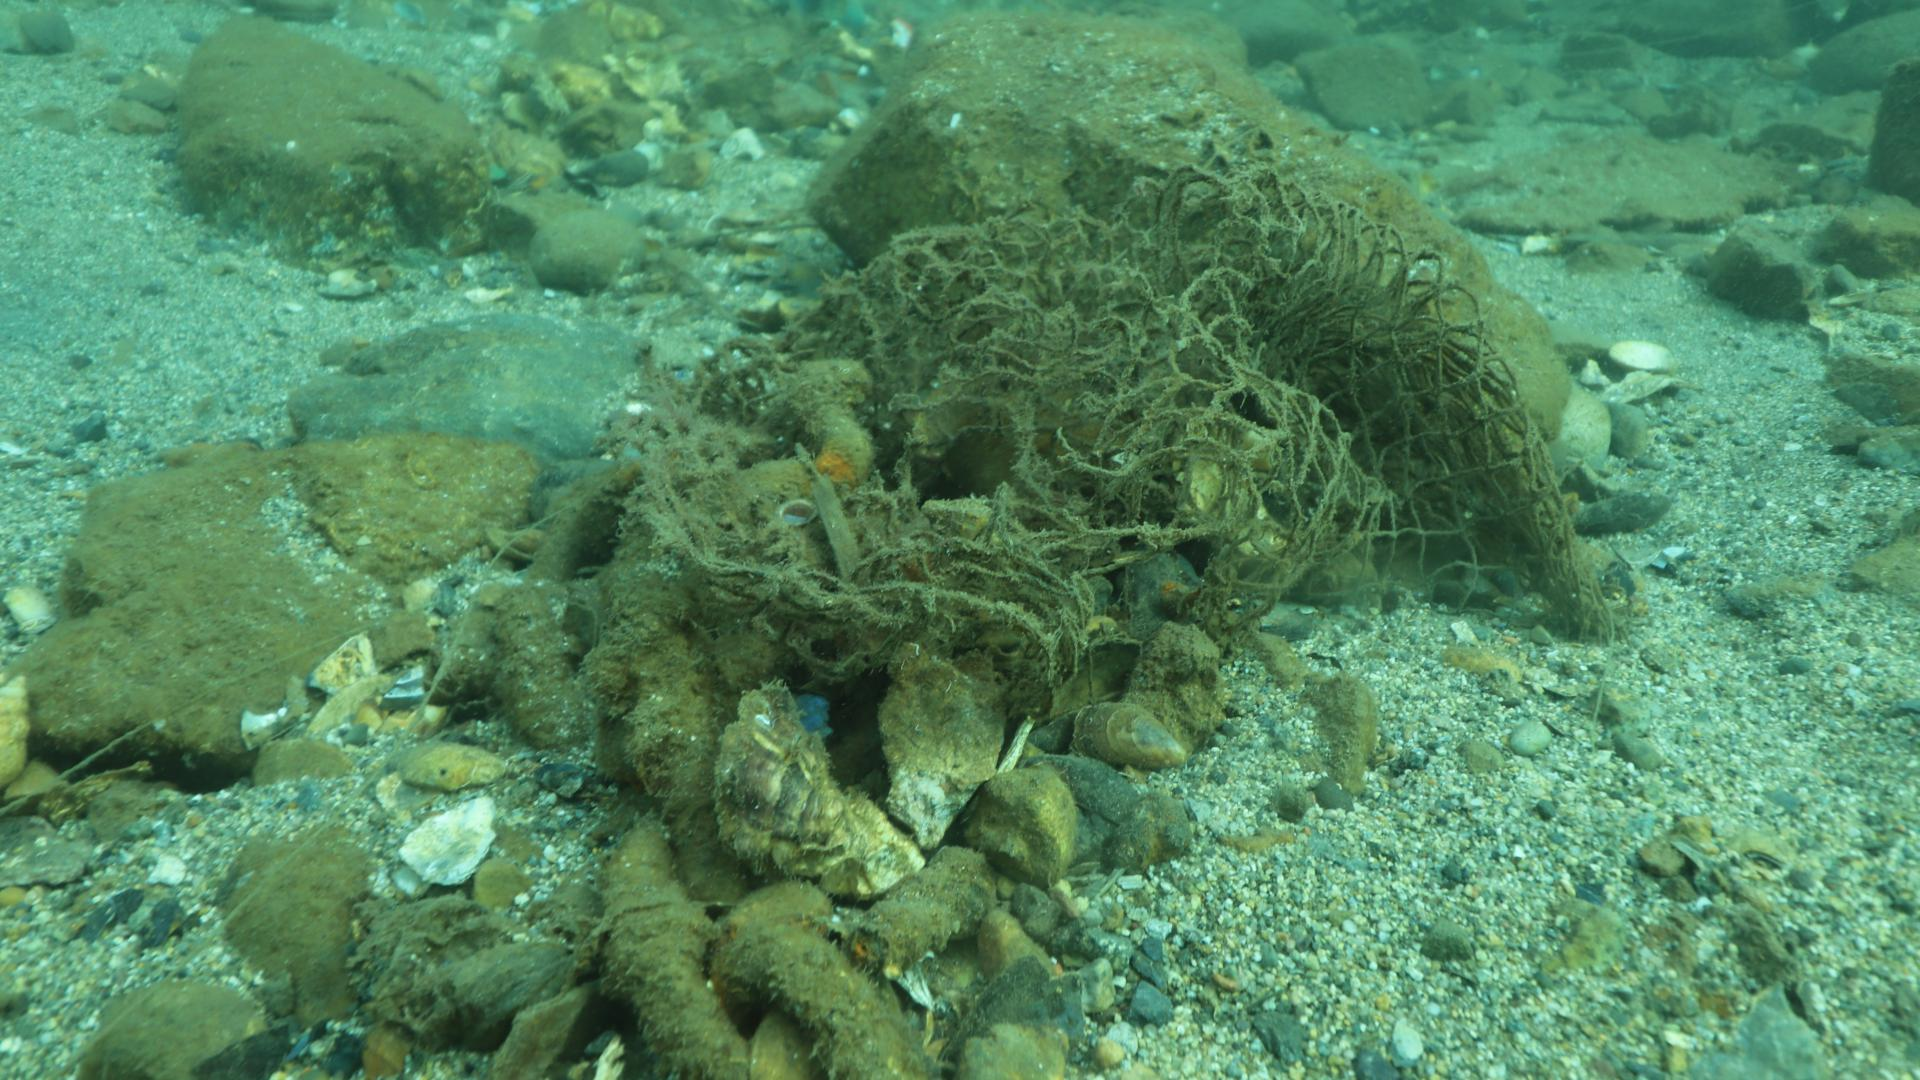fish net: (822, 123, 1640, 600)
